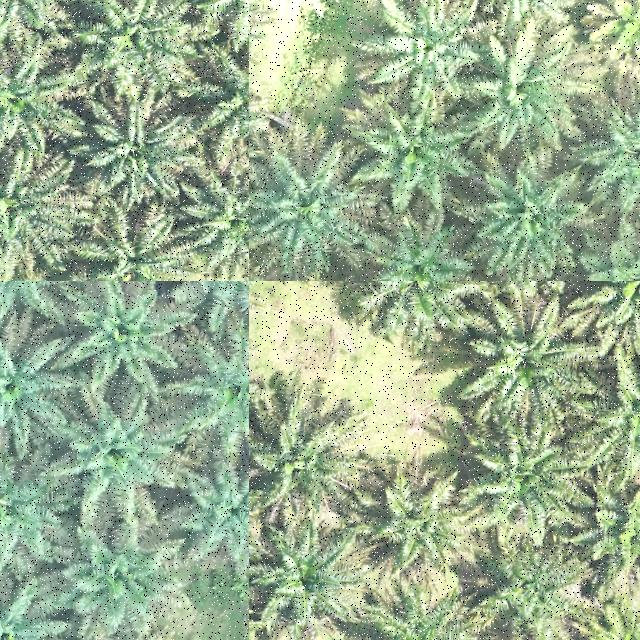Ganoderma: (605, 0, 640, 61)
